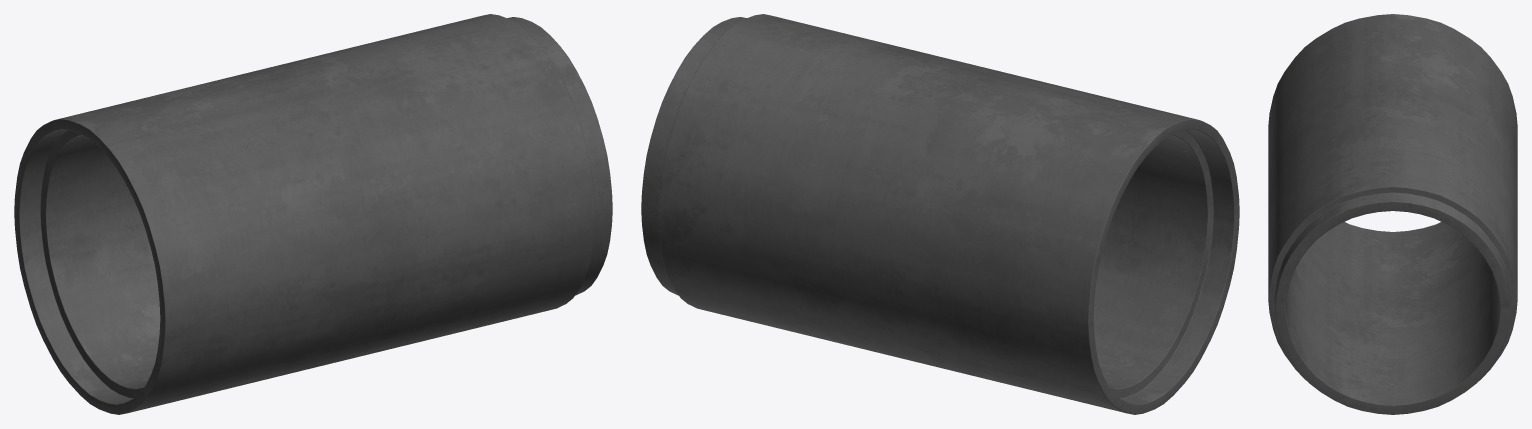
The model's file is Pipes_Big_01.fbx.
The picture shows the model from 3 angles, left to right: view 1: azimuth 30°, elevation 25°; view 2: azimuth 150°, elevation 25°; view 3: azimuth 270°, elevation 25°; orthographic projection. The views are drawn at different scales.
Visible parts, largest first — view 1: Pipes_Big_LOD0; view 2: Pipes_Big_LOD0; view 3: Pipes_Big_LOD0.
Part boxes in pixels (x1,y1,x2,y2): Pipes_Big_LOD0: [14, 14, 612, 414]; Pipes_Big_LOD0: [641, 14, 1239, 414]; Pipes_Big_LOD0: [1268, 14, 1517, 414].
Size of what is drawn, in the model's own units: 613 by 356 by 356.
